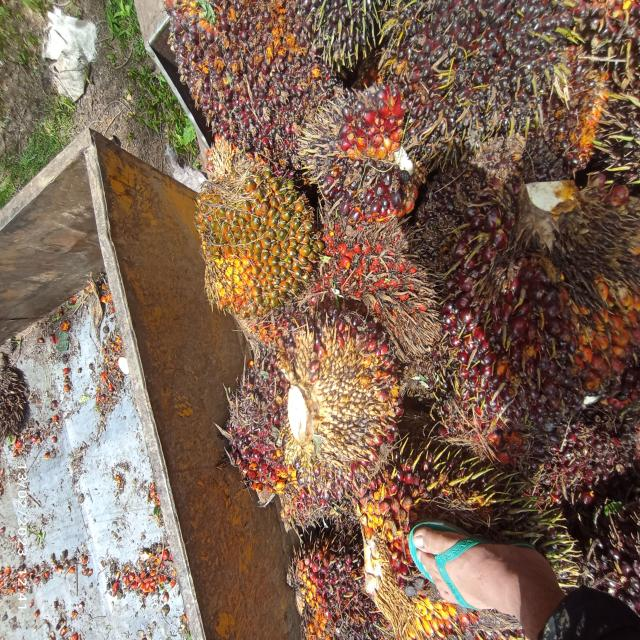fraksi 1: (278, 297, 406, 503), (299, 81, 424, 214), (199, 360, 290, 506)
fraksi 3: (451, 173, 640, 419), (146, 0, 324, 165), (289, 525, 365, 640)
fraksi 4: (324, 205, 446, 332)
